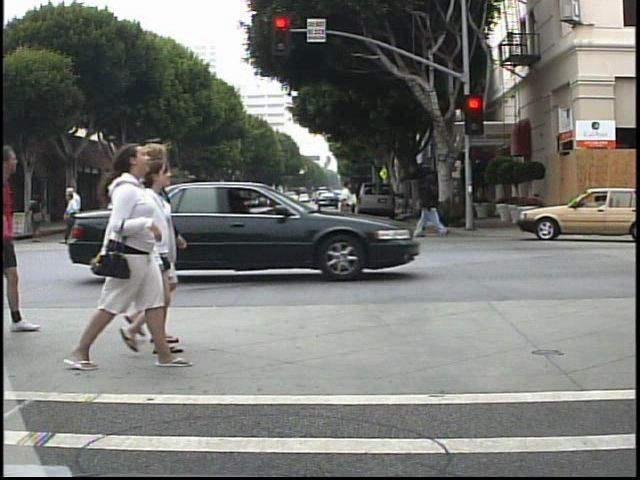person: (81, 140, 177, 378), (126, 158, 193, 366), (141, 143, 194, 351), (411, 167, 446, 240), (335, 177, 362, 241), (163, 187, 187, 249), (63, 190, 89, 246), (216, 182, 239, 240), (63, 185, 83, 247), (345, 187, 361, 223)
